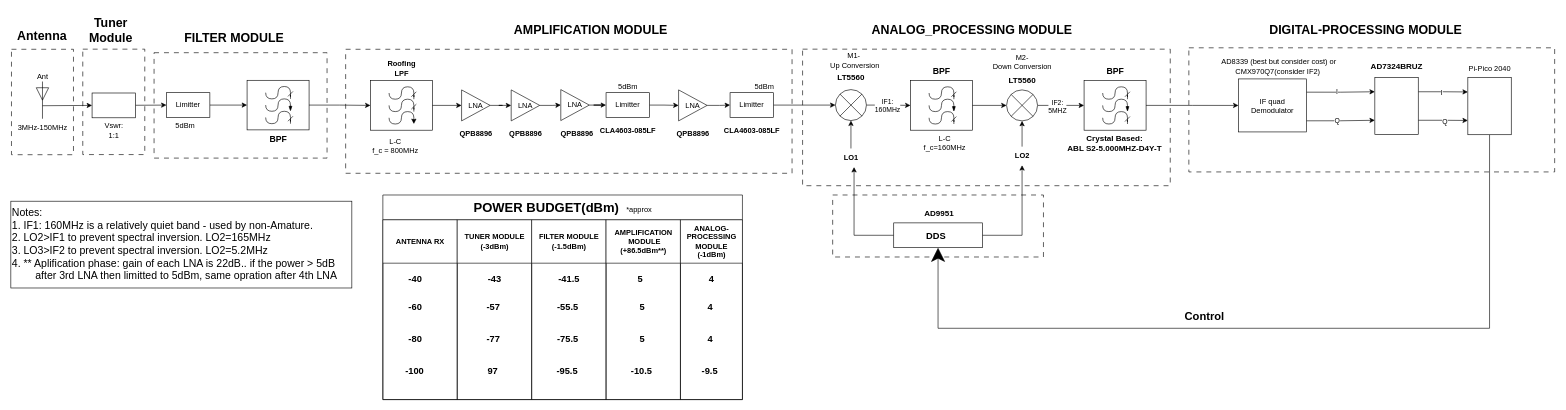
Image size: 1566x410. Some labels were removed from this diagram. The centre of each missing label's shape, as x and y in pixels:
"ADC" goes at point 1396,106.
"MCU" goes at point 1489,106.
"Tuner" goes at point 113,105.
